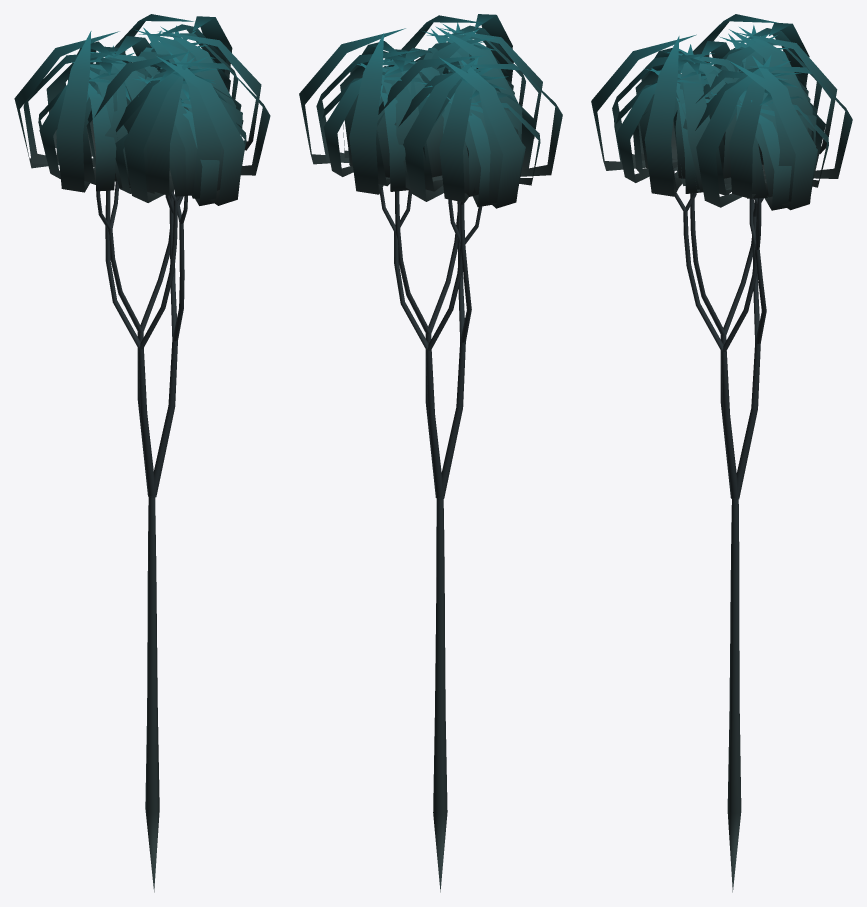
Rendered from plants-flowers-teal-globe-flower_v1.glb.
The picture shows the model from 3 angles, left to right: view 1: azimuth 30°, elevation 25°; view 2: azimuth 150°, elevation 25°; view 3: azimuth 270°, elevation 25°; orthographic projection.
Parts seen in each view (by area): view 1: Teal Globe Flower_v1; view 2: Teal Globe Flower_v1; view 3: Teal Globe Flower_v1.
Boxes of the visible parts, left/top/right/bottom form: Teal Globe Flower_v1: left=14, top=14, right=270, bottom=892; Teal Globe Flower_v1: left=299, top=14, right=562, bottom=892; Teal Globe Flower_v1: left=591, top=14, right=852, bottom=892.
Size of the model in its own units: 0.1616 by 0.6 by 0.1673.
